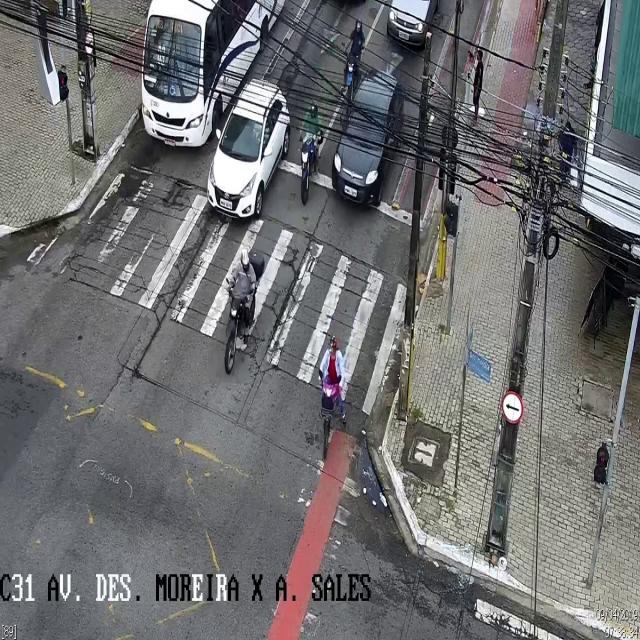Bus: (140, 0, 280, 152)
Car: (208, 78, 290, 220), (332, 72, 404, 206), (388, 0, 455, 53)
Motorcycle: (224, 250, 264, 375), (318, 334, 346, 462), (296, 102, 323, 204), (341, 20, 365, 111)
